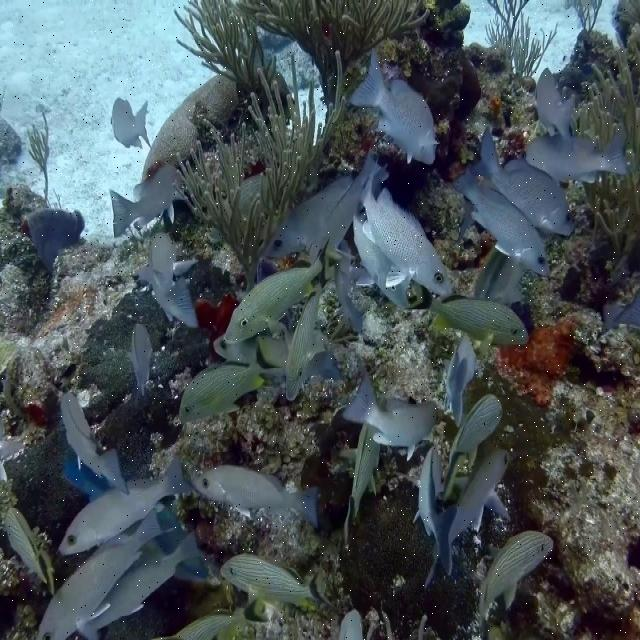aquatic plants: (173, 49, 346, 275), (238, 1, 431, 105), (574, 32, 639, 260), (171, 0, 266, 98), (483, 0, 560, 78), (26, 110, 51, 201)
fish: (39, 508, 165, 639), (262, 146, 392, 258), (58, 451, 192, 556), (80, 529, 201, 639), (472, 125, 577, 239), (361, 174, 454, 297), (224, 239, 330, 343), (451, 169, 550, 278), (346, 51, 439, 165), (179, 338, 282, 425), (401, 289, 530, 357), (342, 373, 439, 463), (192, 463, 318, 528), (219, 552, 342, 613), (60, 389, 129, 496), (441, 392, 503, 503), (411, 446, 463, 578), (129, 232, 198, 328), (480, 530, 553, 620), (283, 274, 333, 402), (343, 427, 385, 572), (108, 159, 183, 239), (353, 214, 414, 310), (452, 449, 512, 544), (527, 133, 628, 183), (4, 507, 55, 596), (20, 209, 85, 278), (158, 601, 268, 638), (475, 249, 532, 307), (443, 336, 477, 427), (536, 68, 574, 146), (110, 95, 151, 149), (126, 324, 154, 400), (342, 610, 362, 639)
